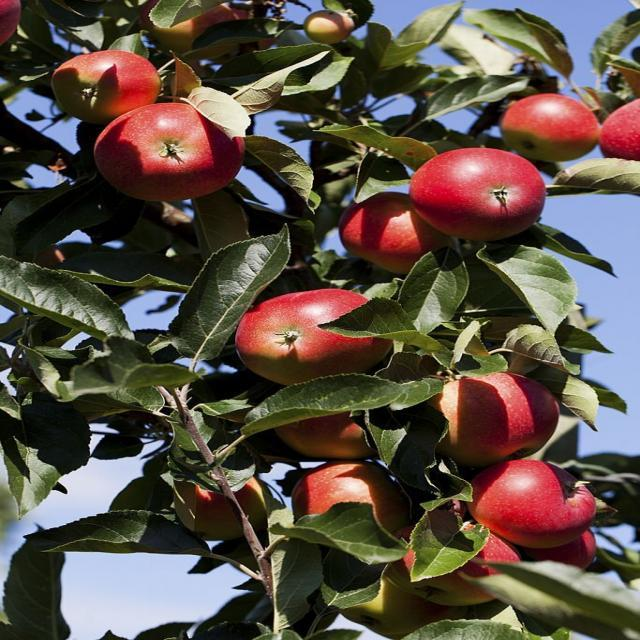Red Apple: (242, 292, 383, 375), (103, 107, 232, 197), (419, 155, 552, 238), (469, 463, 605, 538), (427, 378, 563, 450), (306, 463, 397, 537), (50, 56, 161, 114), (341, 197, 444, 257), (416, 533, 522, 591), (508, 97, 602, 155), (522, 525, 614, 576), (191, 484, 272, 534), (602, 100, 640, 155)
